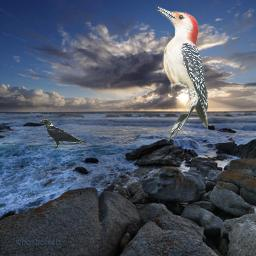Crow: (39, 119, 84, 149)
Woodpecker: (154, 6, 208, 141)
